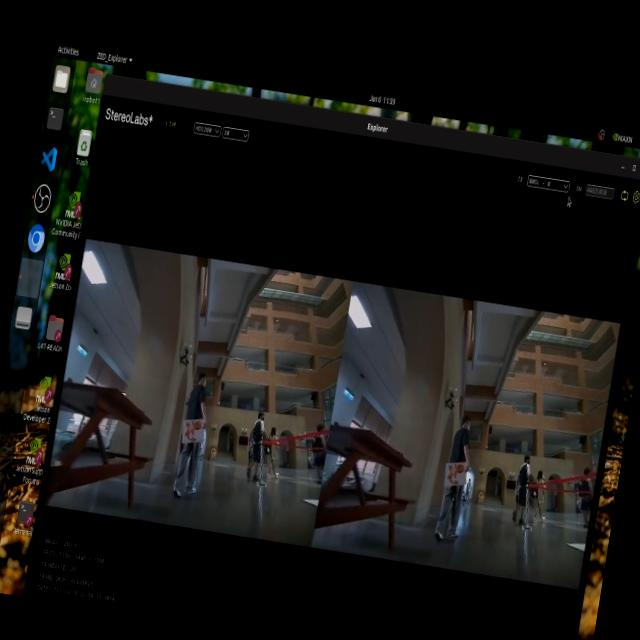red: (175, 417, 221, 456), (444, 460, 471, 492)
